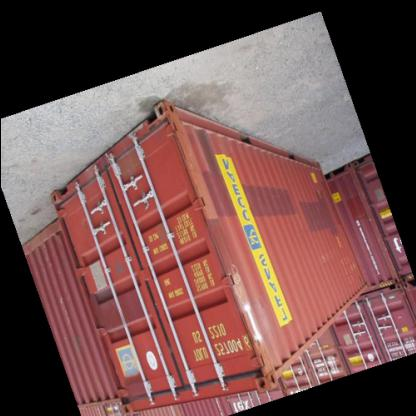Damage: (160, 100, 212, 209), (84, 138, 140, 196), (229, 272, 268, 355)
